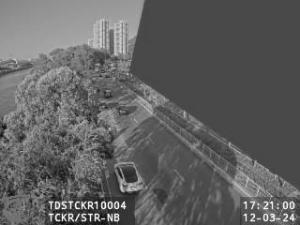bus: (100, 66, 104, 72)
vehicle: (115, 162, 146, 194), (118, 105, 130, 114), (100, 101, 108, 109), (105, 91, 113, 98), (96, 86, 100, 92), (96, 74, 102, 76), (106, 74, 110, 76)
